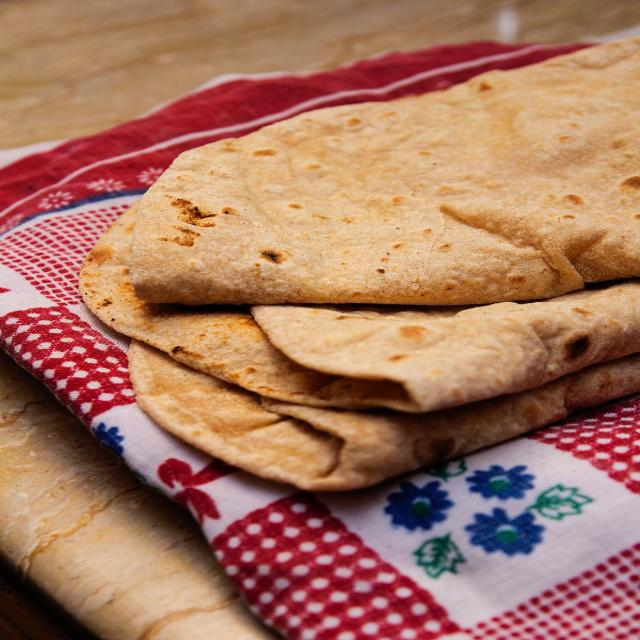ROTI: (115, 39, 639, 305), (129, 341, 639, 490), (252, 281, 639, 412)
